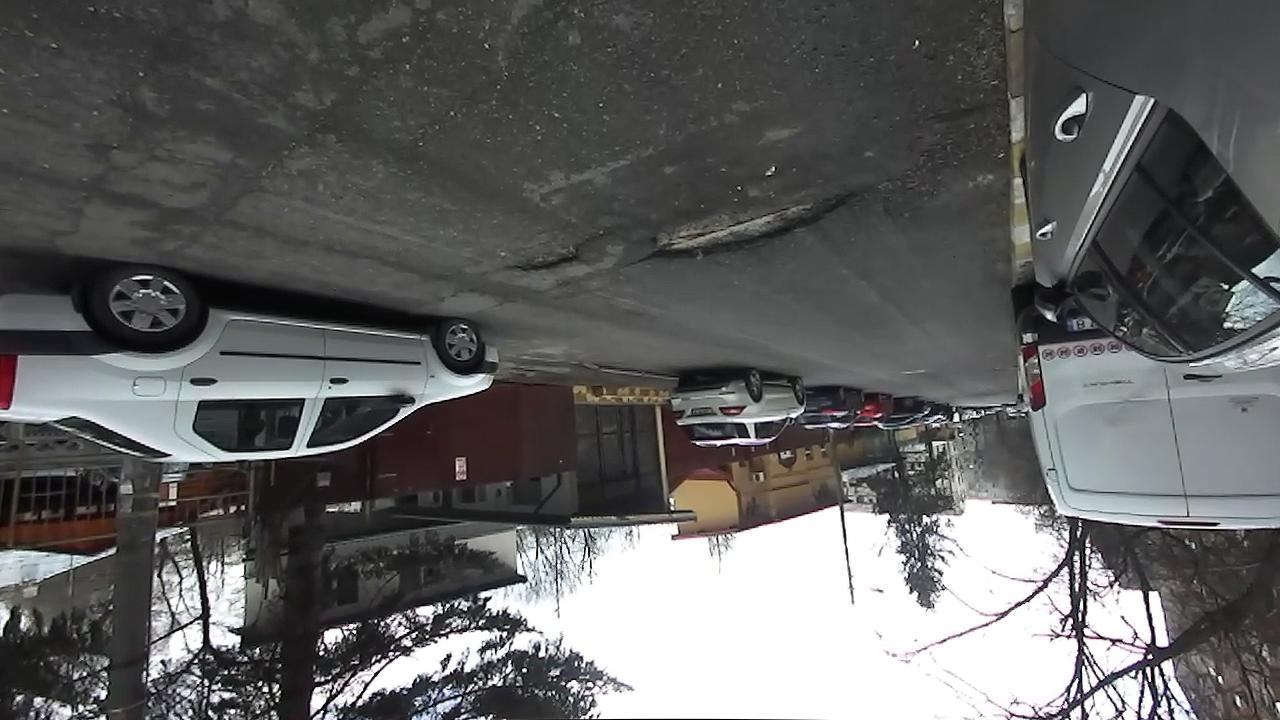pothole: (636, 185, 861, 267), (501, 229, 600, 276)
